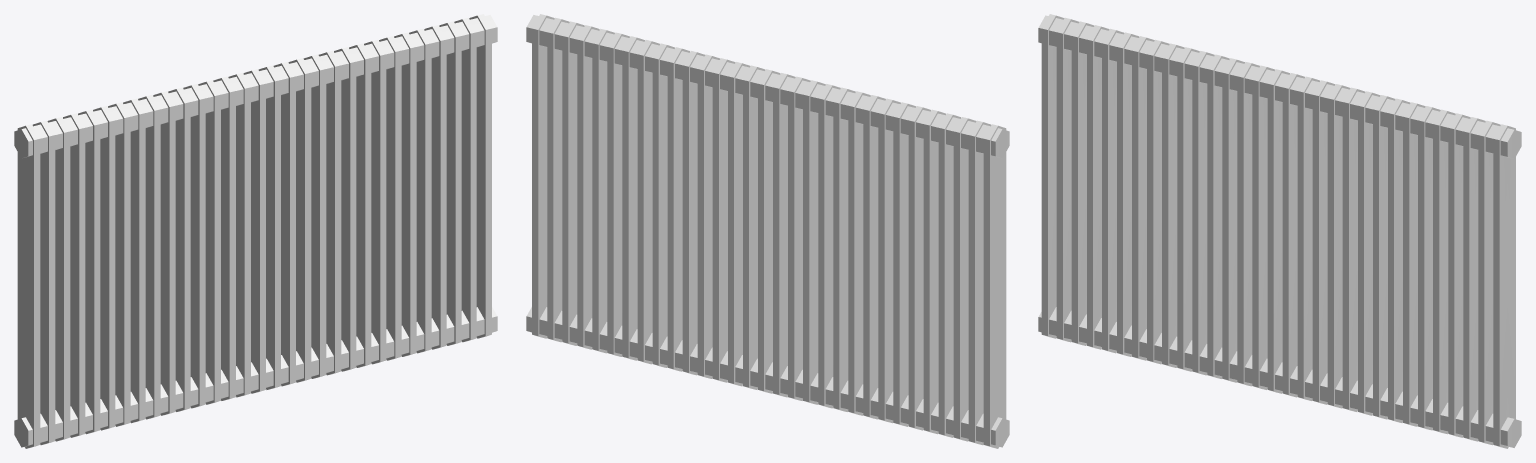
Rendered from bathroom_item_030.glb.
3 renders of one model, left to right at view 1: azimuth 30°, elevation 25°; view 2: azimuth 150°, elevation 25°; view 3: azimuth 330°, elevation 25°, orthographic.
Parts seen in each view (by area): view 1: bathroom_item_030; view 2: bathroom_item_030; view 3: bathroom_item_030.
Boxes of the visible parts, x1=… form: bathroom_item_030: x1=14, y1=14, x2=497, y2=448; bathroom_item_030: x1=526, y1=14, x2=1009, y2=448; bathroom_item_030: x1=1038, y1=14, x2=1521, y2=448.
Size of the model in its own units: 0.9252 by 0.6094 by 0.0558.
1 material, 1 textured.
